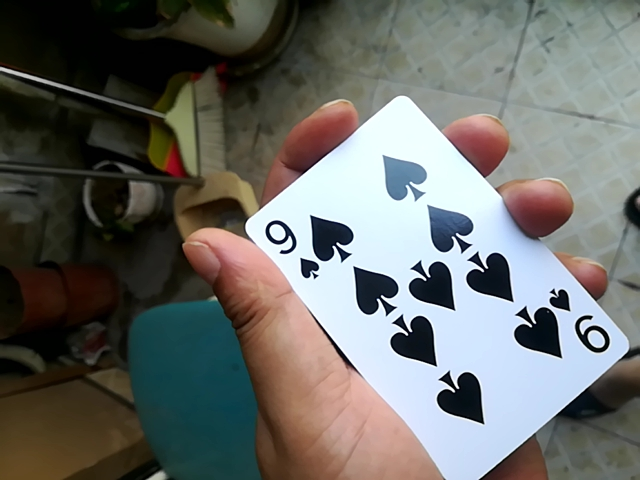ht 9: (218, 82, 623, 474)
